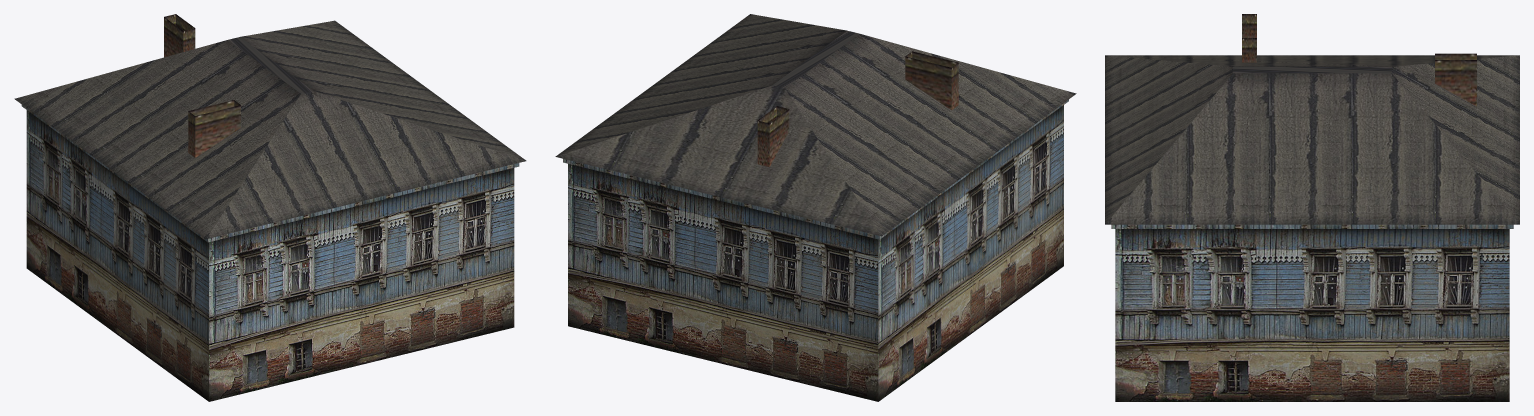
The model's file is sibir_domik6.FBX.
The picture shows the model from 3 angles, left to right: view 1: azimuth 30°, elevation 25°; view 2: azimuth 150°, elevation 25°; view 3: azimuth 270°, elevation 25°; orthographic projection. The views are drawn at different scales.
Visible parts, largest first — view 1: sibir_domik6; view 2: sibir_domik6; view 3: sibir_domik6.
Part boxes in pixels (bbox=[...]): sibir_domik6: bbox=[14, 14, 526, 401]; sibir_domik6: bbox=[555, 14, 1076, 401]; sibir_domik6: bbox=[1105, 14, 1519, 401].
Size of the model in its own units: 9.9 by 10.25 by 6.86.
